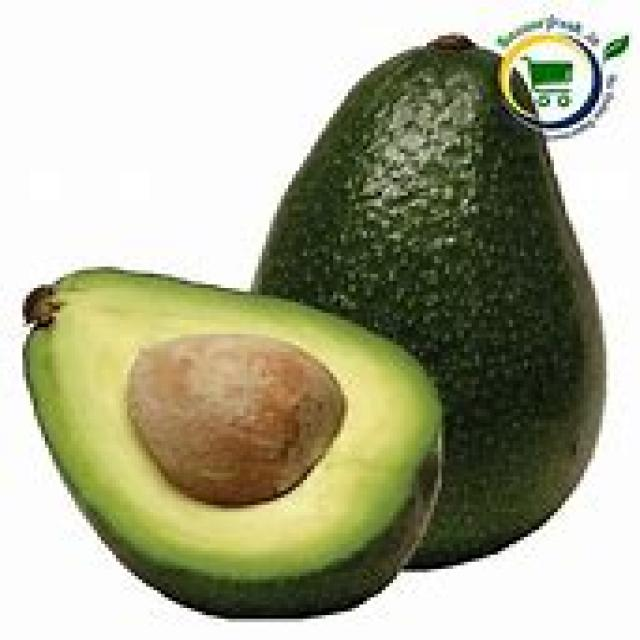Avocado: (9, 264, 448, 625), (254, 26, 607, 293)
